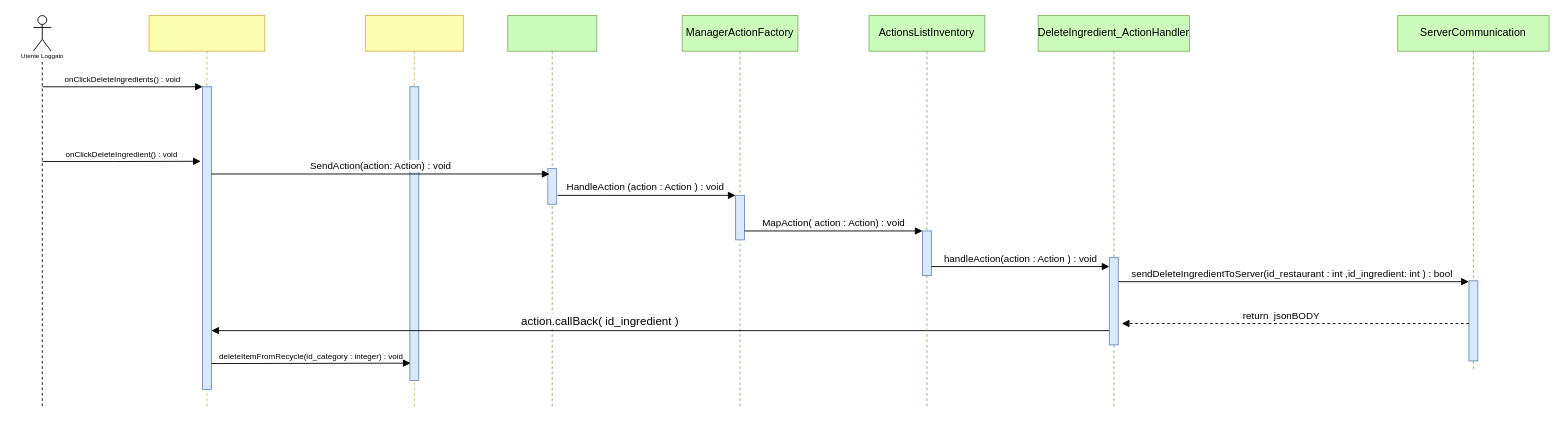
The diagram is 1565 pixels wide and 423 high, and some of its shapes have lost their labels. The shapes that lost their labels are listed below. From the top down, each one's box as (x1, y1, x2, y2) in pixels, then its label:
(148, 15, 265, 407): Fragment_ListInventory
(364, 15, 463, 407): Adapter_Category
(507, 15, 597, 407): Manager
